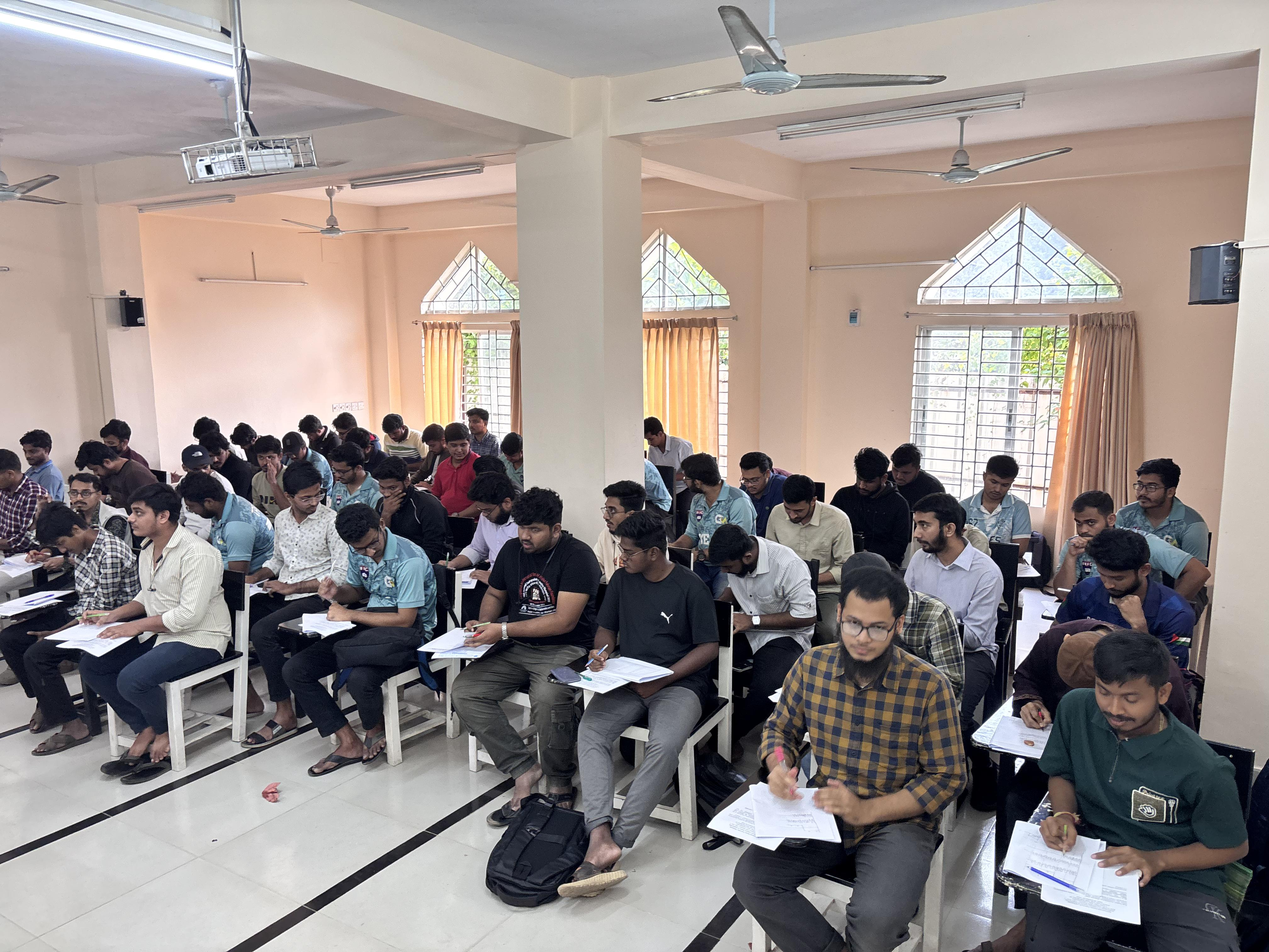copying: (578, 519, 700, 731), (322, 503, 420, 673), (271, 463, 333, 613), (676, 446, 734, 548), (439, 417, 476, 503), (199, 434, 236, 479), (278, 423, 311, 465), (178, 447, 220, 479)
hidden_communication: (250, 432, 287, 497)
no_cheating: (1000, 630, 1269, 952), (776, 577, 945, 892), (471, 484, 593, 829), (98, 485, 215, 757), (692, 525, 822, 692), (1071, 527, 1185, 642), (33, 500, 118, 641), (906, 491, 1001, 606), (179, 470, 262, 571), (1123, 447, 1205, 530), (765, 475, 835, 556), (839, 445, 894, 530), (972, 449, 1030, 528), (1063, 479, 1116, 551), (462, 471, 518, 539), (72, 438, 141, 487), (325, 445, 375, 510), (18, 426, 65, 487), (732, 441, 778, 502), (638, 408, 683, 470), (374, 409, 419, 465), (891, 436, 927, 496), (65, 472, 104, 522), (597, 484, 632, 538), (463, 401, 497, 447), (492, 431, 528, 472), (417, 419, 446, 467)
suspicious_moving: (369, 457, 420, 509)
